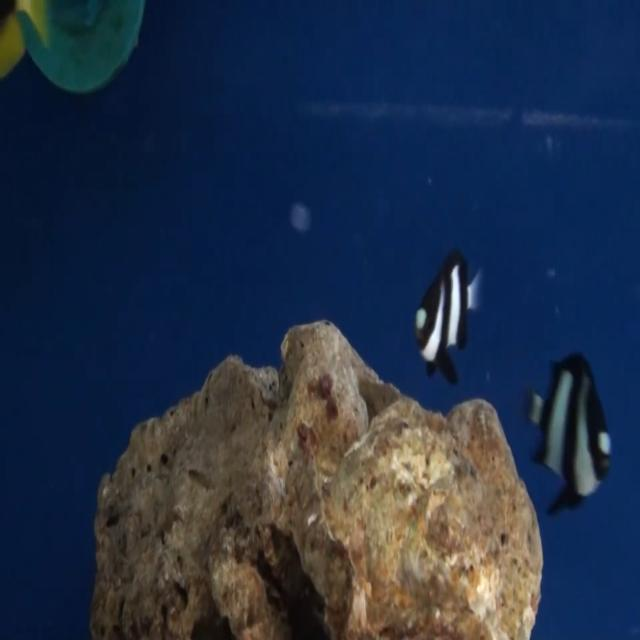ThreeStripedDamselfish: (528, 353, 612, 510), (415, 249, 481, 384)
